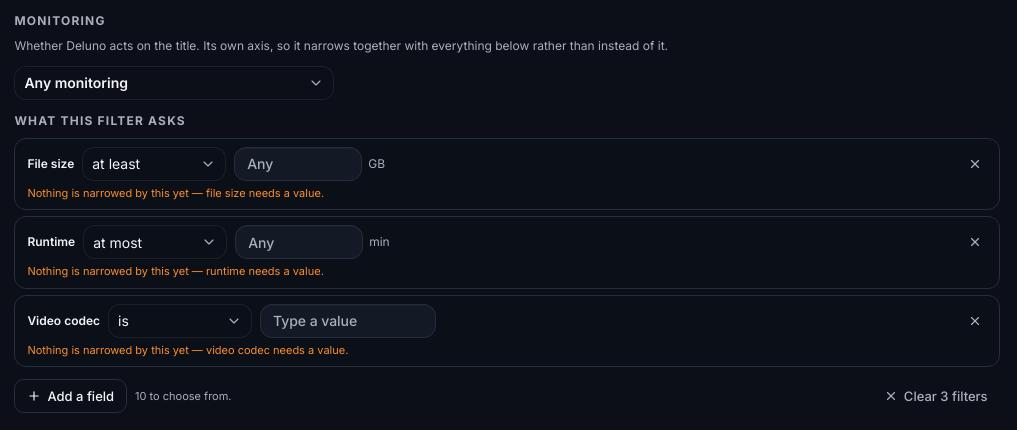
a condition row › a number field takes a number with its unit, a text field takes text, and what is typed is what travels
Expected: the text "GB" is shown, left=368, top=155, right=385, bottom=173
Expected: the text "min" is shown, left=369, top=233, right=390, bottom=251
Type "40" into the number field named "File size". click: {"x": 298, "y": 164}
box: left=234, top=147, right=362, bottom=181
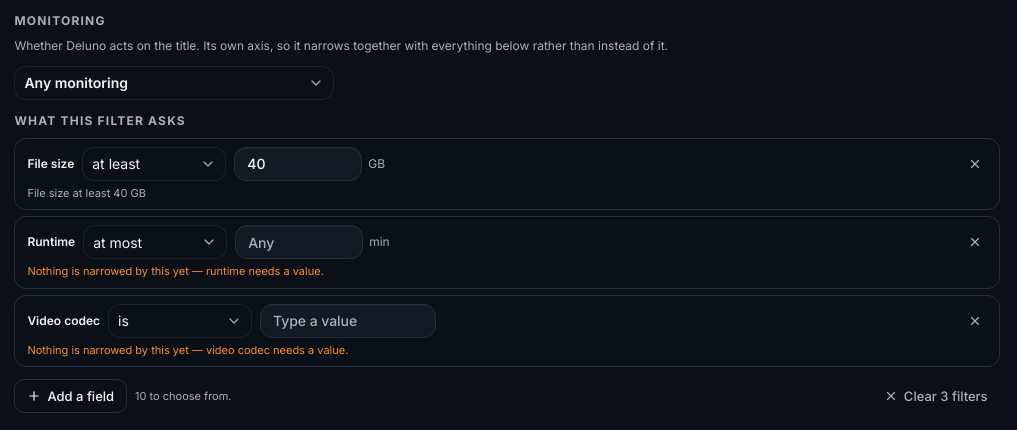
Expected: the text "File size at least 40 GB" is shown, left=27, top=186, right=146, bottom=200
Type "hevc" into the field named "Video codec". click: {"x": 348, "y": 321}
box: left=260, top=304, right=436, bottom=338
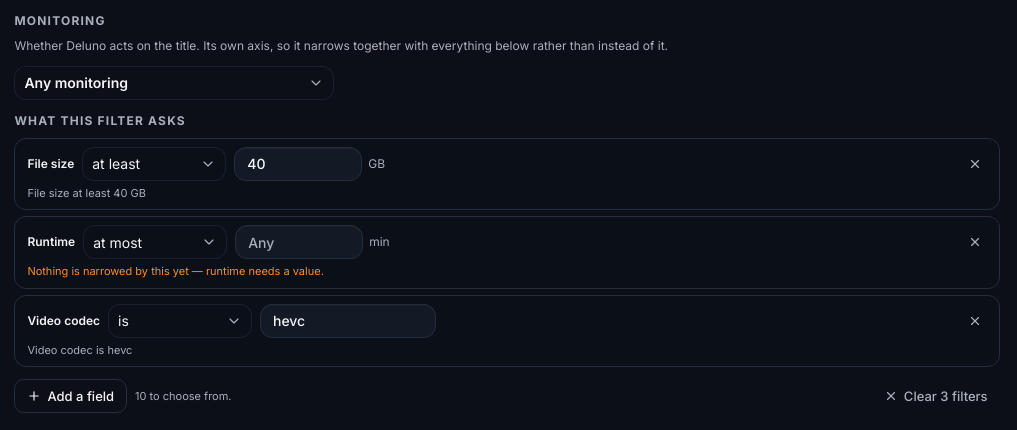
Expected: the text "Video codec is hevc" is shown, left=27, top=343, right=132, bottom=357
